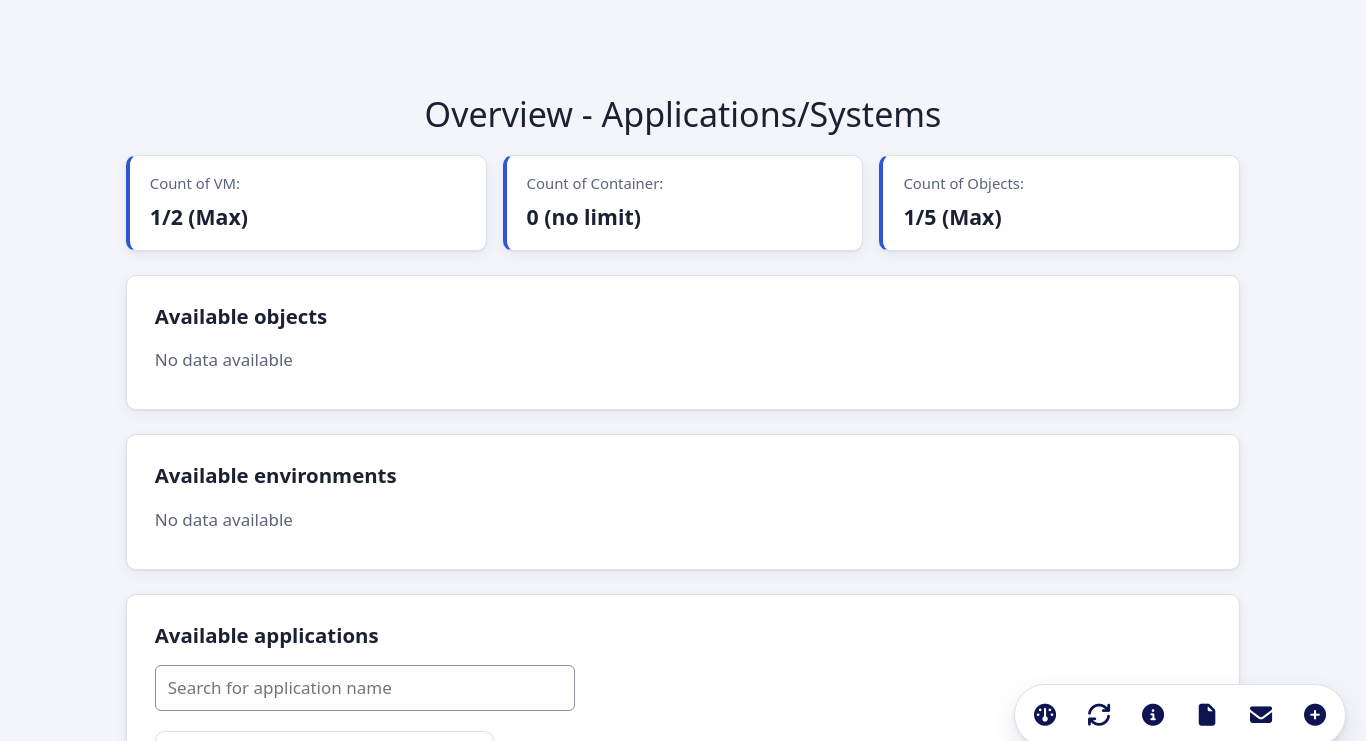
narrows the own applications by search and widens them again
Type "zzz" into the search field at (365, 688), box [155,665,575,711]
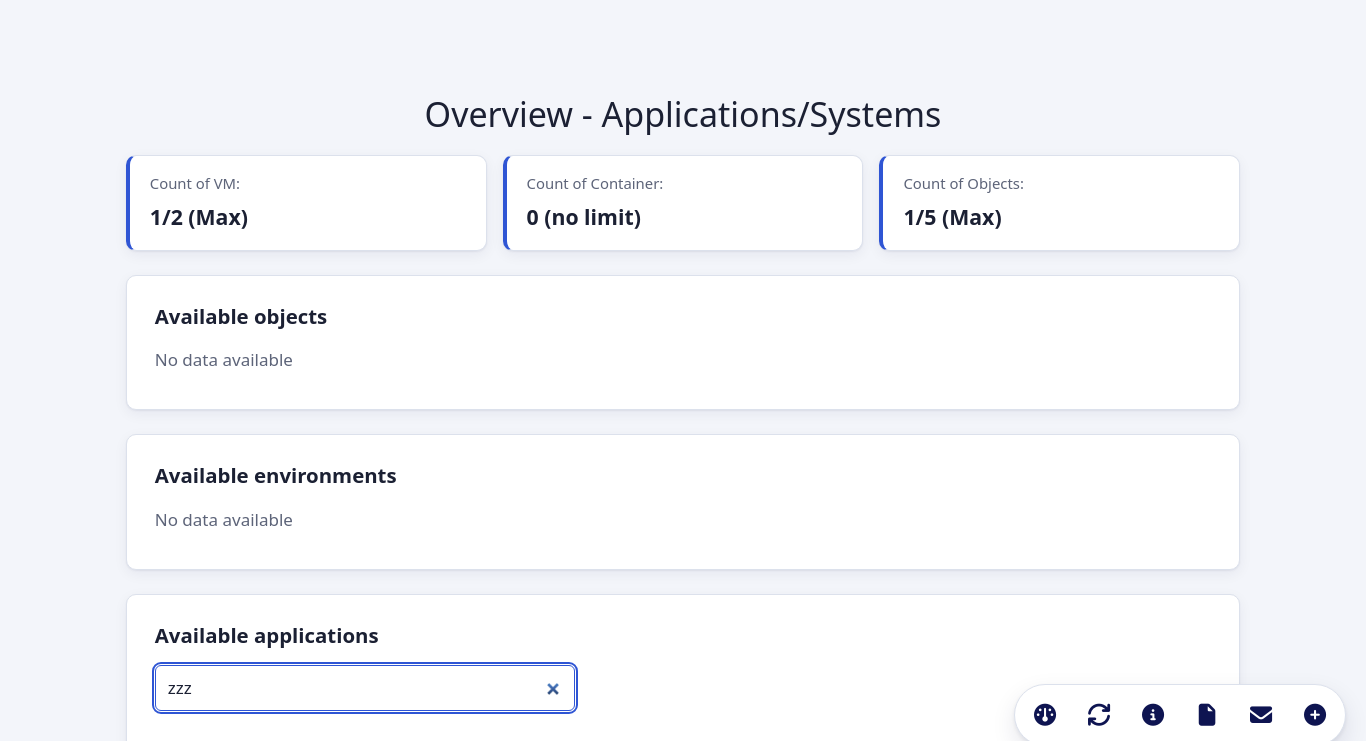
Clear the search field at (365, 688), box [155,665,575,711]
(page scrolled)
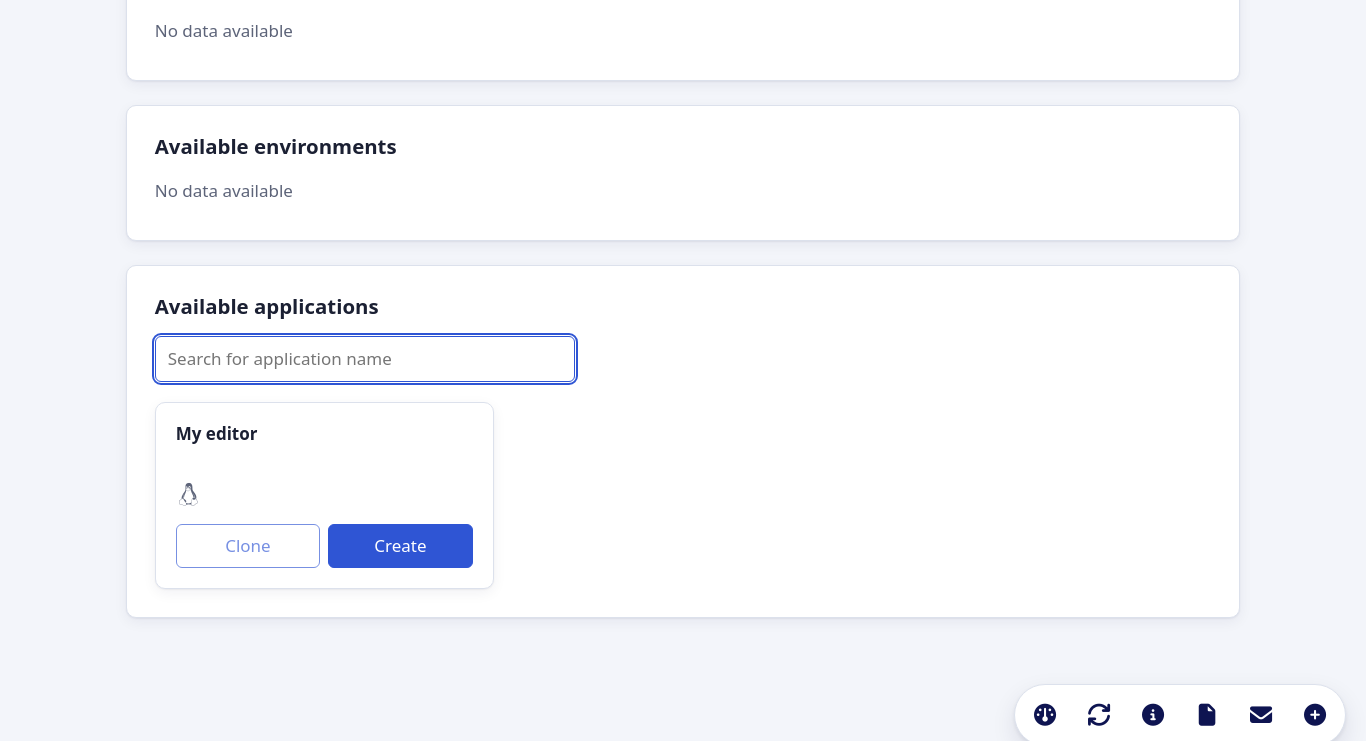
Result: the heading "My editor" is shown at [176,422,258,445]
